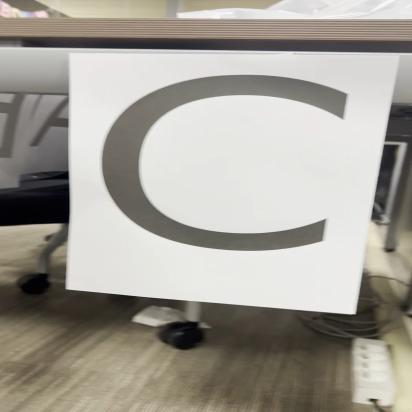seat: (67, 59, 366, 307)
